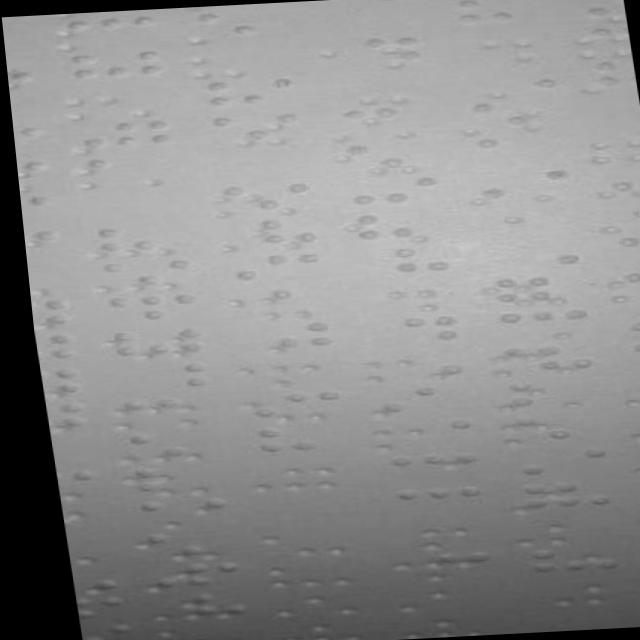braiile: (195, 74, 299, 110), (186, 6, 296, 40), (375, 484, 483, 518), (362, 382, 469, 416), (96, 289, 197, 324), (468, 132, 567, 167), (240, 386, 344, 419), (113, 426, 210, 461), (92, 254, 191, 288), (129, 526, 228, 560), (244, 422, 343, 456), (342, 208, 447, 240), (224, 250, 323, 283), (63, 48, 165, 80), (484, 307, 592, 337), (88, 224, 187, 256), (64, 15, 165, 46), (339, 140, 437, 170), (81, 153, 179, 182), (447, 0, 556, 26), (62, 592, 123, 620), (583, 55, 636, 87), (46, 467, 92, 497), (10, 122, 51, 151), (67, 619, 123, 640), (606, 232, 640, 265), (575, 0, 625, 17), (616, 338, 640, 366), (630, 442, 640, 472)
